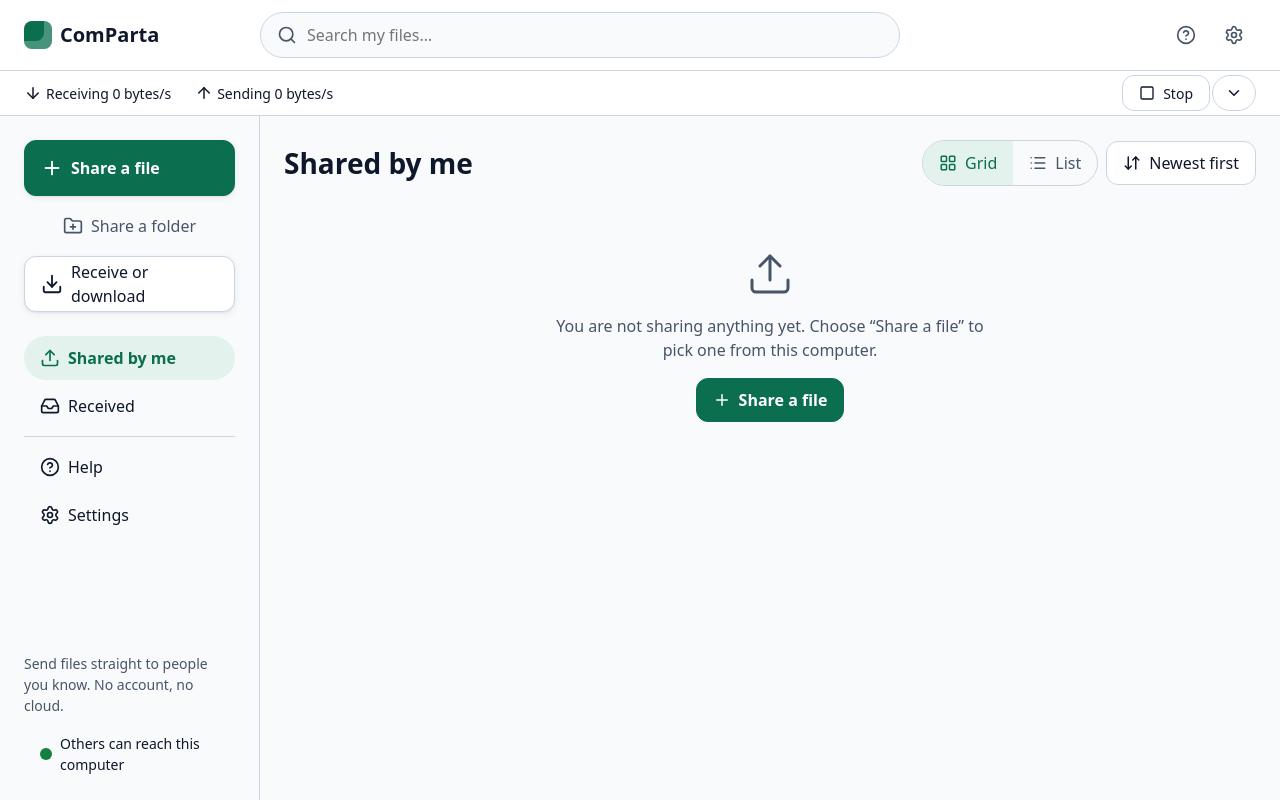
it: downloading from a link or a download file › starts a download from a download file
The width and height of the screenshot is (1280, 800).
Click the button "Receive or download": (130, 284) [24,256,235,312]
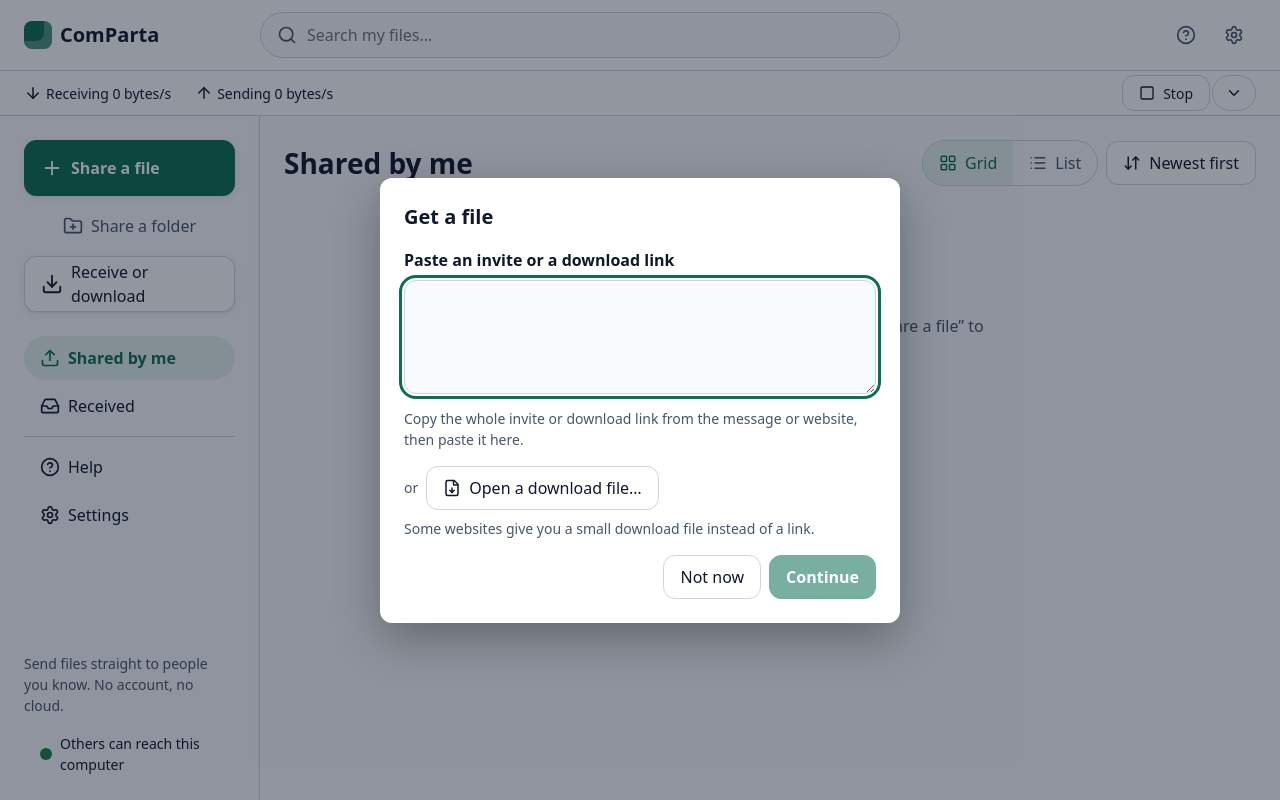
Click the button "Open a download file…": (542, 488) [426,466,659,510]
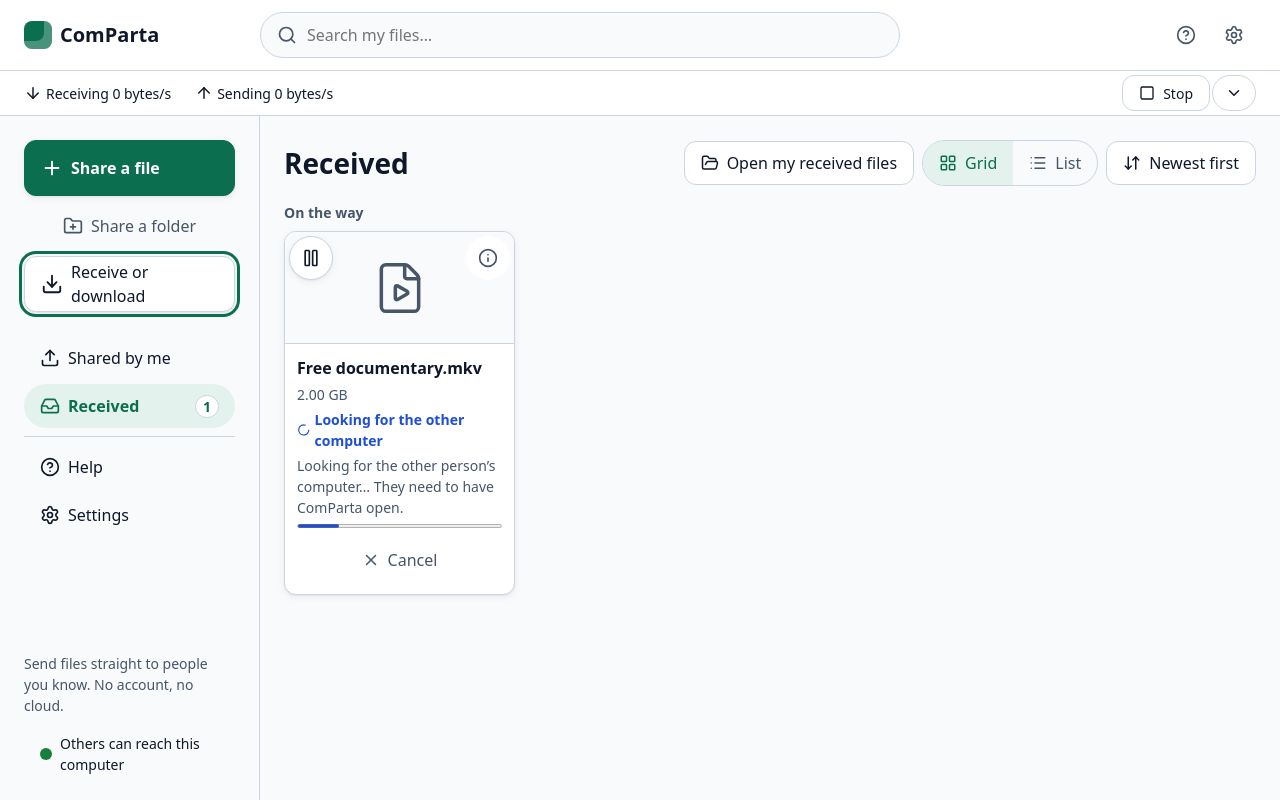
Expected: the dialog is gone
Expected: the text "Free documentary.mkv" is shown, [297,356,482,380]
